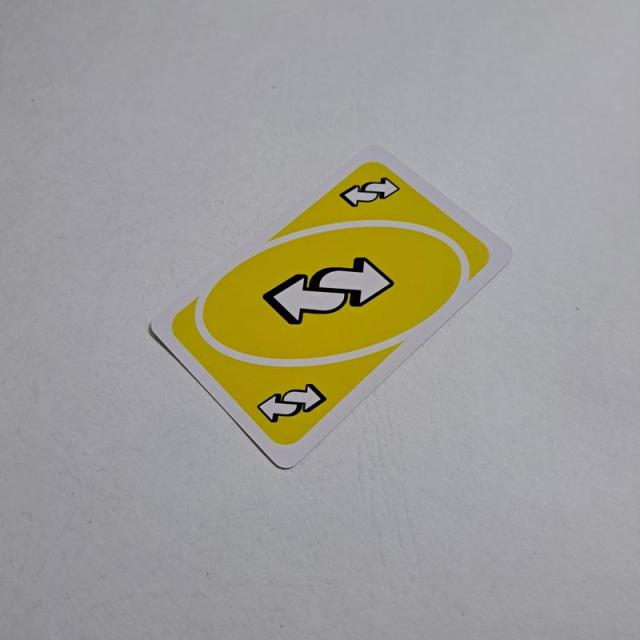Reverse: (334, 168, 406, 214)
Yellow_Card: (166, 154, 495, 454)
